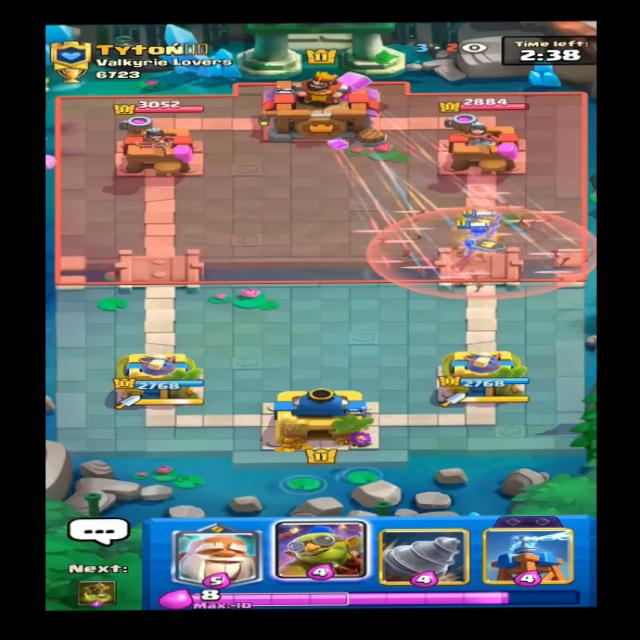arrows: (358, 202, 600, 300)
